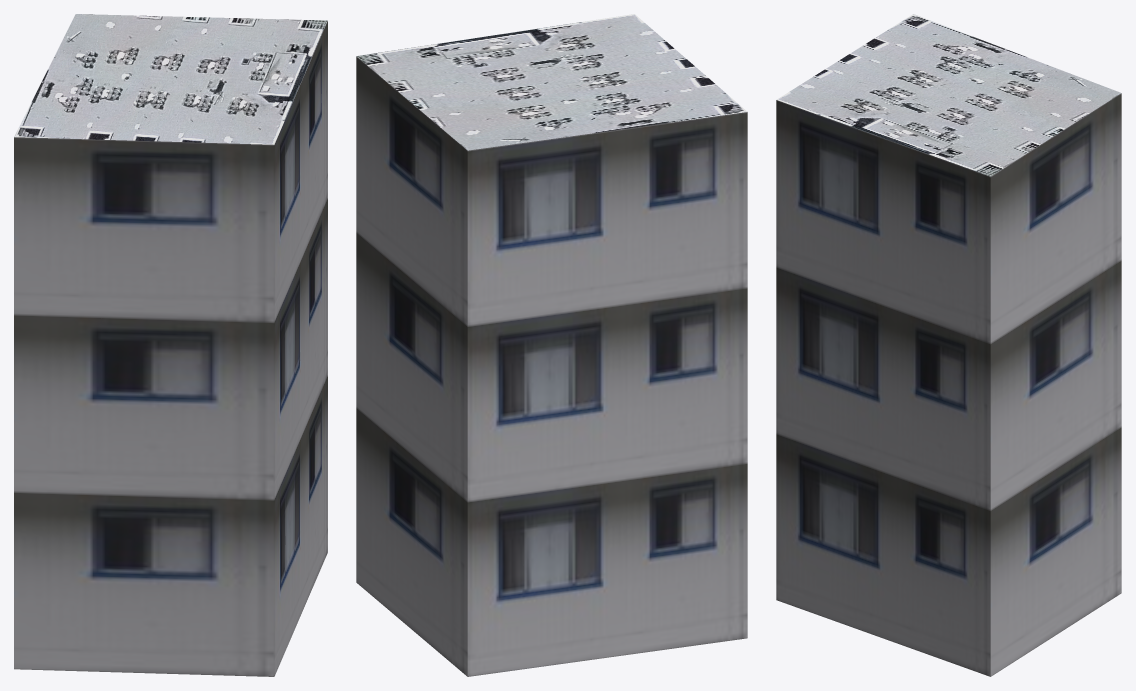
The model's file is ResTex__3356.fbx.
3 views of the same model, side by side, from view 1: azimuth 30°, elevation 25°; view 2: azimuth 150°, elevation 25°; view 3: azimuth 270°, elevation 25° (orthographic). The views are drawn at different scales.
Parts seen in each view (by area): view 1: CityEngineMaterial_9_m, CityEngineMaterial_8_m; view 2: CityEngineMaterial_9_m, CityEngineMaterial_8_m; view 3: CityEngineMaterial_9_m, CityEngineMaterial_8_m.
Boxes of the visible parts, x1,y1,x2,y2 form: CityEngineMaterial_9_m: (14,21,327,676); CityEngineMaterial_8_m: (14,14,327,144); CityEngineMaterial_9_m: (356,56,747,676); CityEngineMaterial_8_m: (356,14,747,150); CityEngineMaterial_9_m: (776,93,1121,676); CityEngineMaterial_8_m: (776,14,1121,176).
Size of the model in its own units: 6.28 by 9 by 5.63.
Materials: 2 (2 with a texture image).
